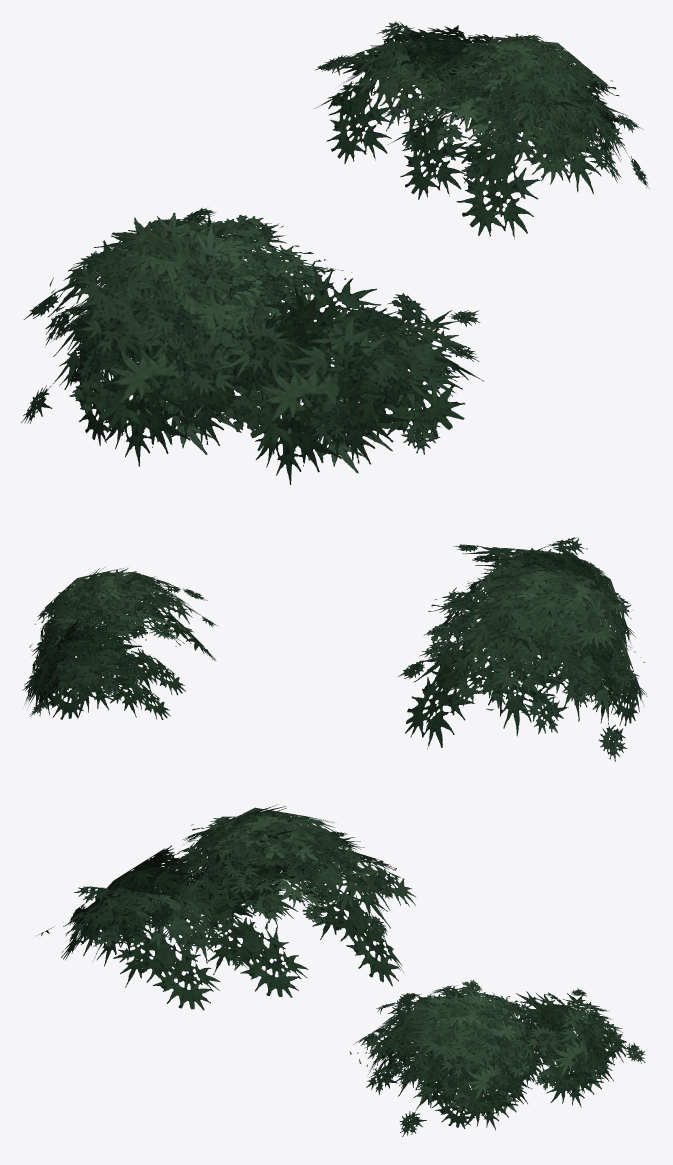
File: Area_05_6.fbx
The picture shows the model from 3 angles, top to bottom: view 1: azimuth 30°, elevation 25°; view 2: azimuth 150°, elevation 25°; view 3: azimuth 270°, elevation 25°; orthographic projection. The views are drawn at different scales.
Visible parts, largest first — view 1: Area_05_6; view 2: Area_05_6; view 3: Area_05_6.
Boxes of the visible parts, x1,y1,x2,y2 form: Area_05_6: [21, 21, 649, 484]; Area_05_6: [22, 537, 647, 761]; Area_05_6: [37, 804, 645, 1136].
Size of the model in its own units: 642 by 196 by 663.
